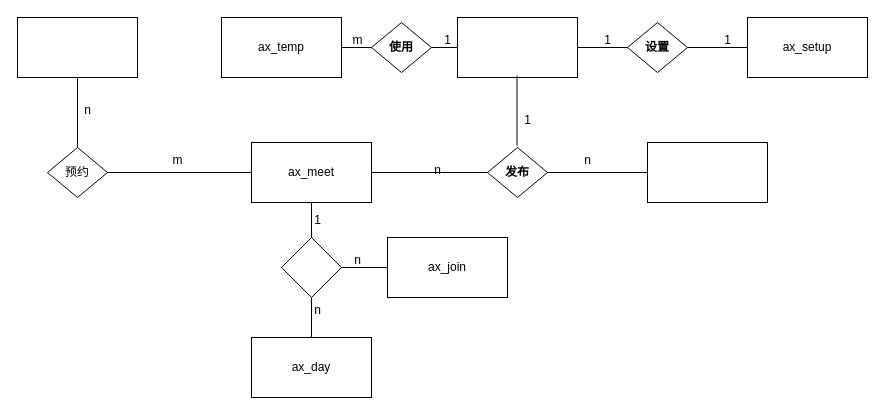
Some shapes in this 885 by 415 pixel diagram are drawn without their labels. The centre of each missing label's shape, as x and y in pixels:
"ax_admin" belongs at (x=517, y=47).
"ax_news" belongs at (x=707, y=172).
"ax_user" belongs at (x=77, y=47).
"关联" belongs at (x=311, y=267).
